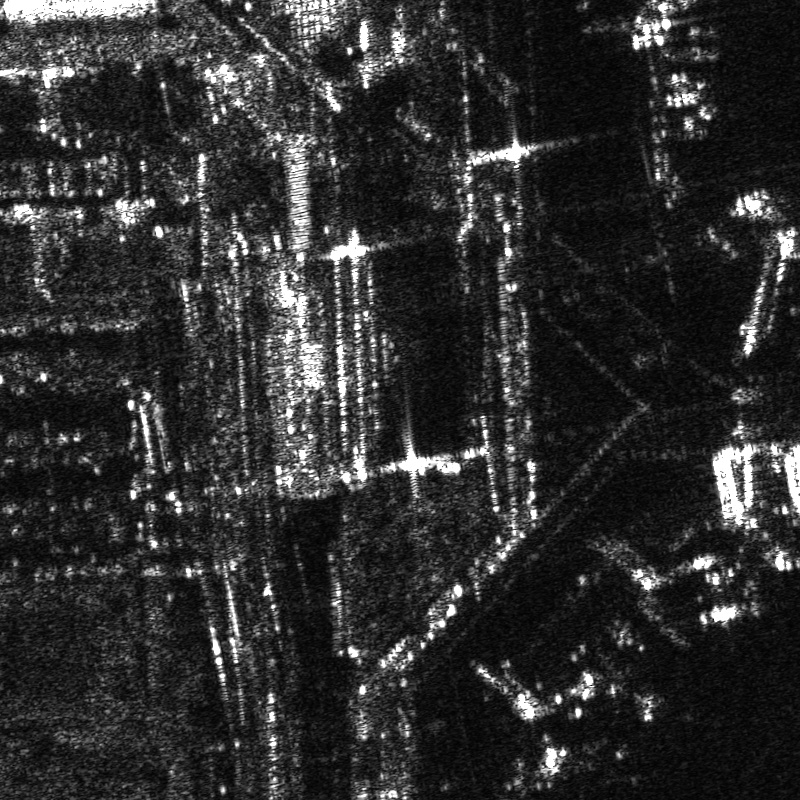A320/321: (587, 663, 669, 728)
